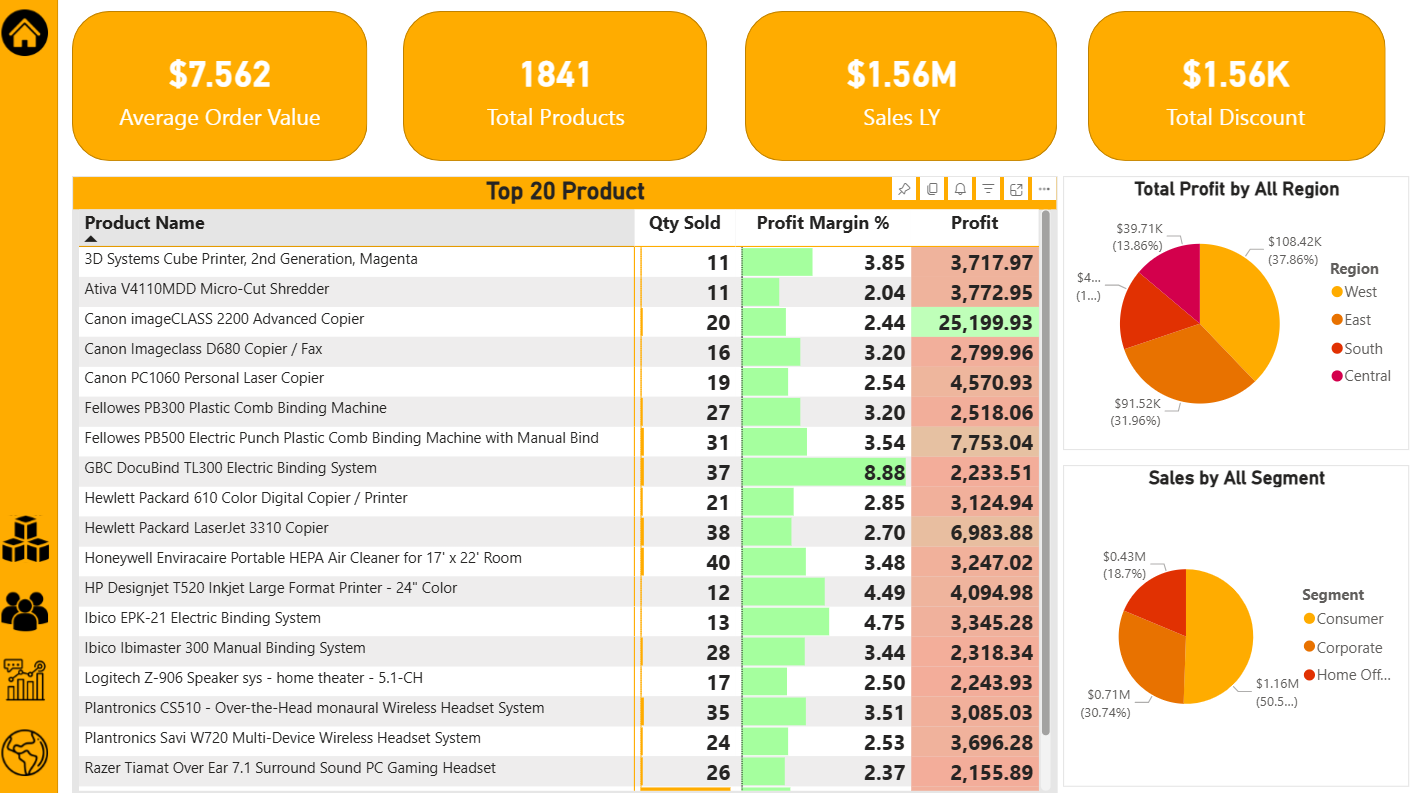

What the dashboard file says about the page in this screenshot:
{"tool":"powerbi","page":{"name":"Product page","canvas":[1280,720],"ordinal":1},"visuals":[{"type":"shape","box":[0,0,55.5,720],"z":0,"group":"g1"},{"type":"pivotTable","title":"Top 20 Product","fields":{"Rows":["Superstore.Product Name"],"Values":["Measure Table.Total Qty Sold","Measure Table.Profit Margin %","Measure Table.Total Profit Matrix Table"]},"box":[67.6,160.4,887.6,559.8],"z":0},{"type":"shape","box":[67.6,12.1,266.3,135.2],"z":1000},{"type":"actionButton","box":[0,528.2,54.5,50],"z":1000,"group":"g1"},{"type":"shape","box":[366.1,12.1,274.4,135.2],"z":2000},{"type":"actionButton","box":[0,655.5,54.6,50.1],"z":2000,"group":"g1"},{"type":"actionButton","box":[0,6,55,50],"z":3000,"group":"g1"},{"type":"shape","box":[673.8,12.1,281.4,135.2],"z":3000},{"type":"shape","box":[983.5,12.1,268.3,135.2],"z":4000},{"type":"actionButton","box":[0.9,462.7,54.5,50],"z":4000,"group":"g1"},{"type":"card","fields":{"Values":["Measure Table.Average Order Value"]},"box":[91.8,22.2,217.9,114],"z":5000},{"type":"card","fields":{"Values":["Measure Table.Distinct Products"]},"box":[394.4,22.2,217.9,114],"z":6000},{"type":"card","fields":{"Values":["Measure Table.Sales LY"]},"box":[706.1,22.2,217.9,114],"z":7000},{"type":"card","fields":{"Values":["Measure Table.Total Discount"]},"box":[1007.5,22.4,217.6,113.7],"z":8000},{"type":"pieChart","title":"Total Profit by All Region","fields":{"Y":["Measure Table.Total Profit"],"Category":["Superstore.Region"]},"box":[960.9,160.3,311.6,247.2],"z":9000},{"type":"pieChart","title":"Sales by All Segment","fields":{"Y":["Measure Table.Total Sales"],"Category":["Superstore.Segment"]},"box":[960.9,420.9,311.6,290.1],"z":10000},{"type":"group","id":"g1","title":"Group 1","box":[0,0,55.5,720],"z":11000},{"type":"actionButton","box":[0,589.1,54.5,50],"z":13001,"group":"g1"}]}

Visuals, with their boxes in screenshot pixels (x1, y1, x2, y2), scaled from the page's 1280x720 canvas onto the 1411x793 screenshot:
shape: (left=0, top=0, right=61, bottom=792)
"Top 20 Product" pivotTable: (left=75, top=177, right=1053, bottom=792)
shape: (left=75, top=13, right=368, bottom=162)
actionButton: (left=0, top=582, right=60, bottom=637)
shape: (left=404, top=13, right=706, bottom=162)
actionButton: (left=0, top=722, right=60, bottom=777)
actionButton: (left=0, top=7, right=61, bottom=62)
shape: (left=743, top=13, right=1053, bottom=162)
shape: (left=1084, top=13, right=1380, bottom=162)
actionButton: (left=1, top=510, right=61, bottom=565)
card - Measure Table.Average Order Value: (left=101, top=24, right=341, bottom=150)
card - Measure Table.Distinct Products: (left=435, top=24, right=675, bottom=150)
card - Measure Table.Sales LY: (left=778, top=24, right=1019, bottom=150)
card - Measure Table.Total Discount: (left=1111, top=25, right=1350, bottom=150)
"Total Profit by All Region" pieChart: (left=1059, top=177, right=1403, bottom=449)
"Sales by All Segment" pieChart: (left=1059, top=464, right=1403, bottom=783)
"Group 1" group: (left=0, top=0, right=61, bottom=792)
actionButton: (left=0, top=649, right=60, bottom=704)
